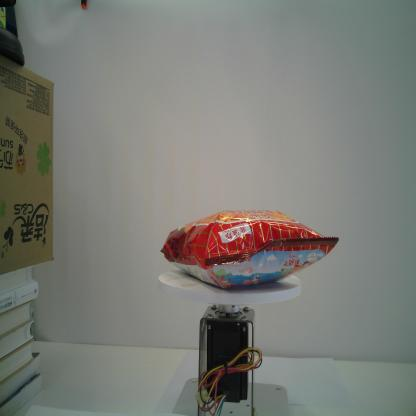Puffed Food: (160, 209, 339, 289)
